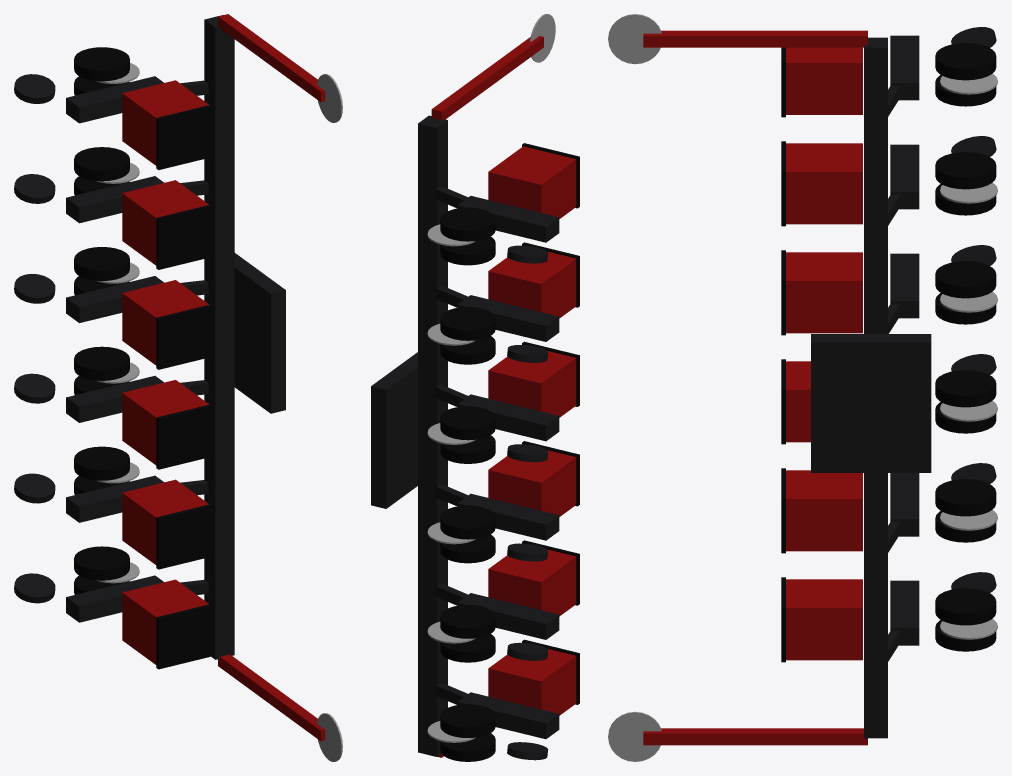
Rendered from planter.obj.
The picture shows the model from 3 angles, left to right: view 1: azimuth 30°, elevation 25°; view 2: azimuth 150°, elevation 25°; view 3: azimuth 270°, elevation 25°; orthographic projection. The views are drawn at different scales.
Visible parts, largest first — view 1: implement_planter; view 2: implement_planter; view 3: implement_planter.
Part boxes in pixels (x1,y1,x2,y2): implement_planter: (14, 14, 342, 761); implement_planter: (371, 14, 579, 761); implement_planter: (608, 14, 997, 761).
Bounding box in the file's own units: 1.53 × 5.14 × 2.43.
